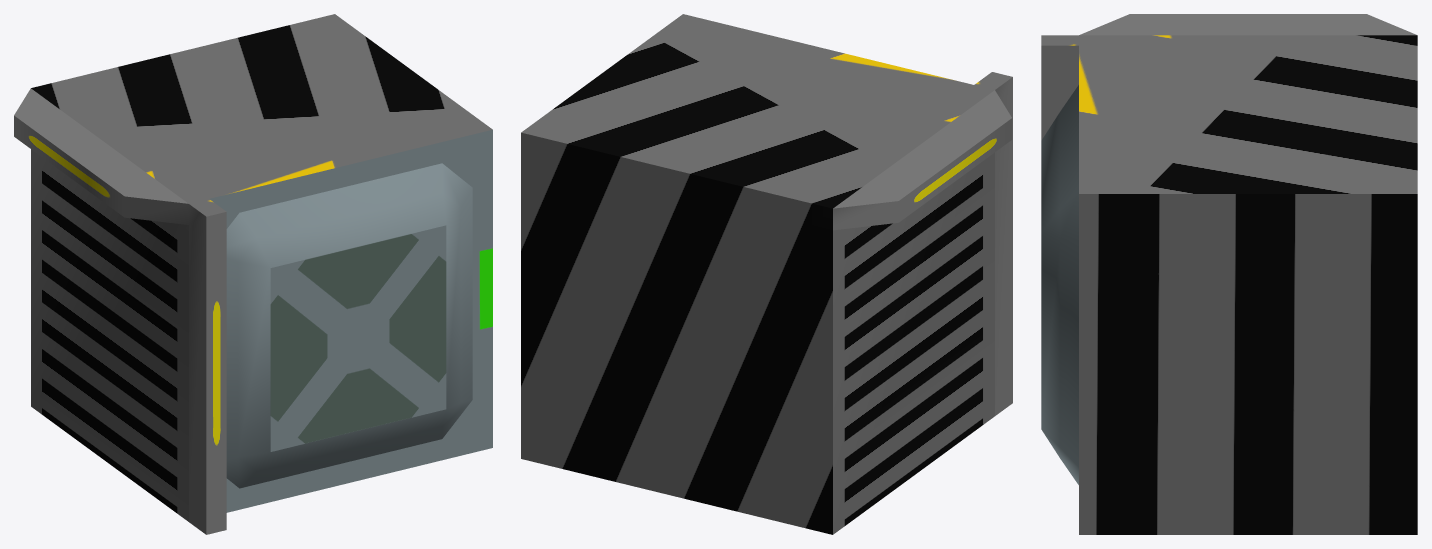
The model's file is MidPartPitLedgesRigth.fbx.
3 views of the same model, side by side, from view 1: azimuth 30°, elevation 25°; view 2: azimuth 150°, elevation 25°; view 3: azimuth 270°, elevation 25° (orthographic). The views are drawn at different scales.
Visible parts, largest first — view 1: geo1; view 2: geo1; view 3: geo1.
Boxes of the visible parts, x1=… form: geo1: x1=14, y1=14, x2=492, y2=534; geo1: x1=521, y1=14, x2=1012, y2=534; geo1: x1=1041, y1=14, x2=1417, y2=534.
Size of the model in its own units: 3.4 by 3 by 3.
